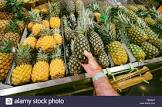Pineapple: (97, 22, 128, 66), (116, 12, 151, 47), (11, 44, 32, 81), (31, 44, 50, 84), (76, 21, 91, 64)
